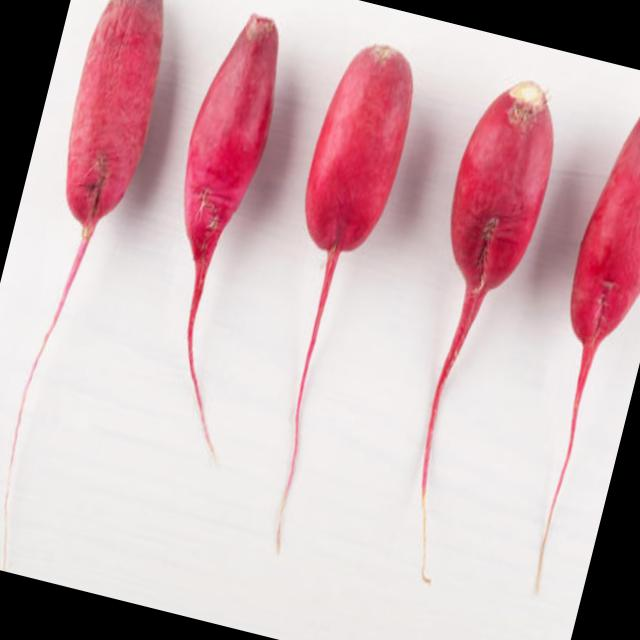paper: (352, 62, 588, 620), (217, 32, 440, 566), (107, 0, 328, 478), (0, 0, 182, 574), (501, 90, 640, 620)
